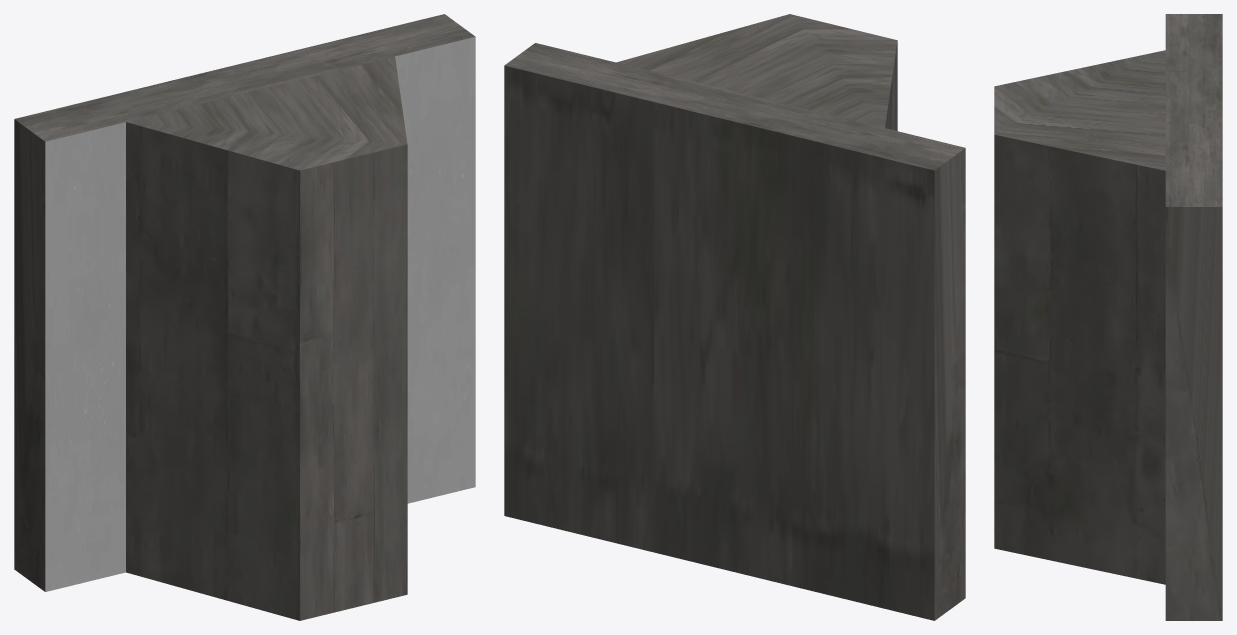
The model's file is beveled_wall_100cm_001.glb.
3 renders of one model, left to right at view 1: azimuth 30°, elevation 25°; view 2: azimuth 150°, elevation 25°; view 3: azimuth 270°, elevation 25°, orthographic. The views are drawn at different scales.
Visible parts, largest first — view 1: beveled.wall.100cm.001; view 2: beveled.wall.100cm.001; view 3: beveled.wall.100cm.001.
Boxes of the visible parts, <box> form: beveled.wall.100cm.001: <box>14,14,475,620</box>; beveled.wall.100cm.001: <box>504,14,965,620</box>; beveled.wall.100cm.001: <box>994,14,1222,620</box>.
Bounding box in the file's own units: 1 × 1 × 0.5.
2 materials, 2 textured.
